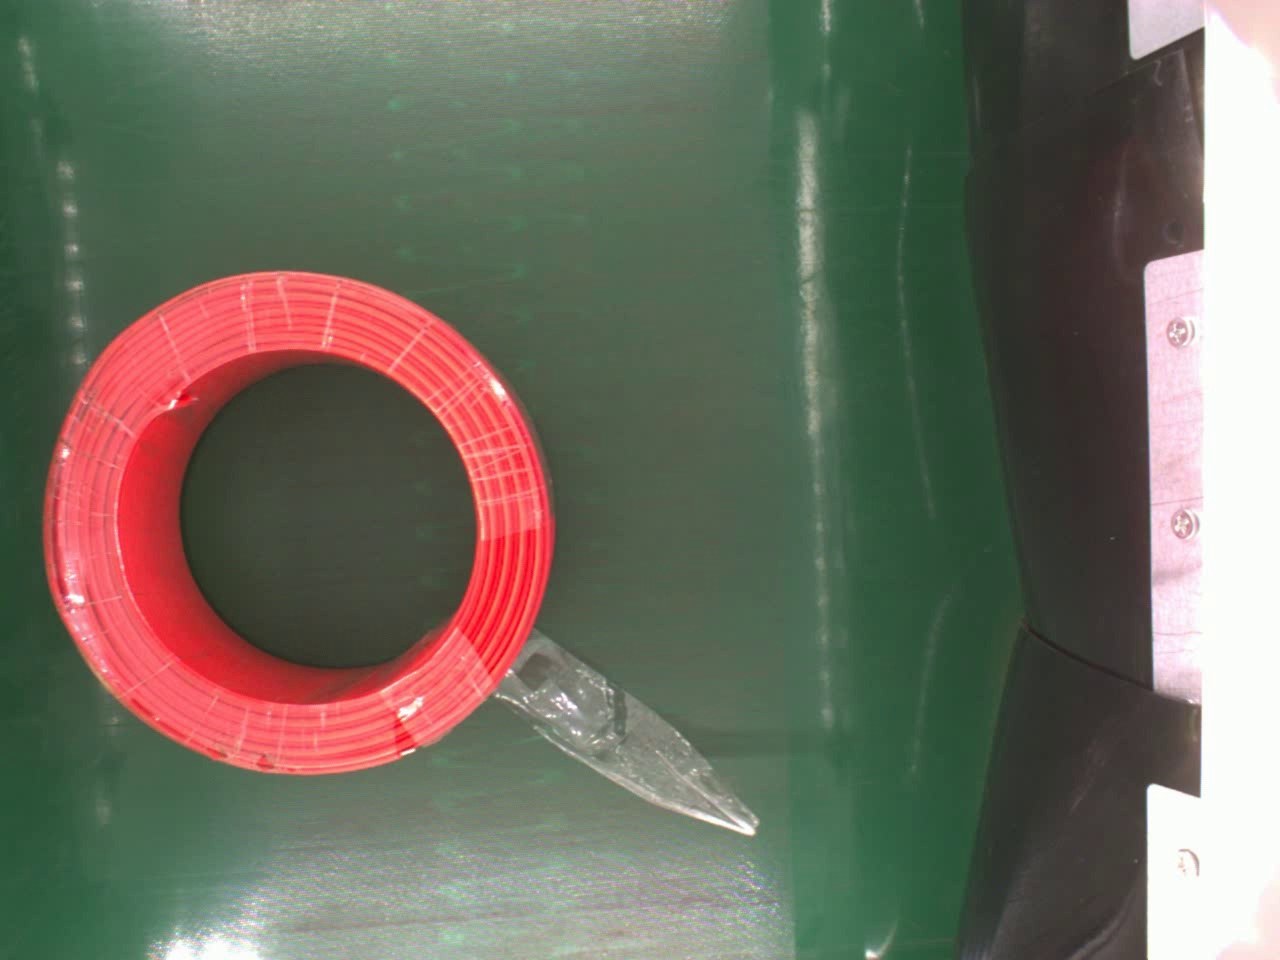red: (45, 268, 553, 777)
